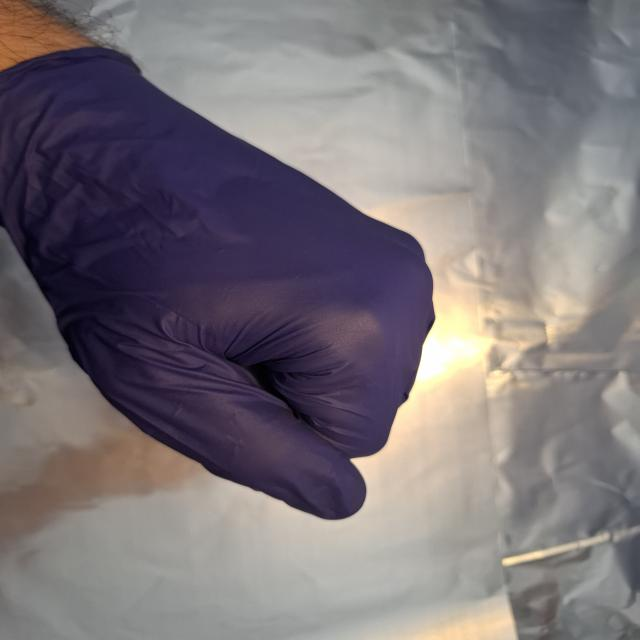glove_on: (0, 40, 441, 522)
